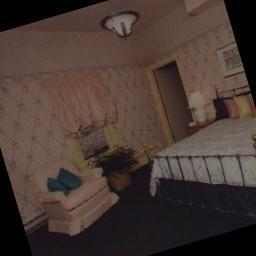Matera: (97, 144, 143, 198)
